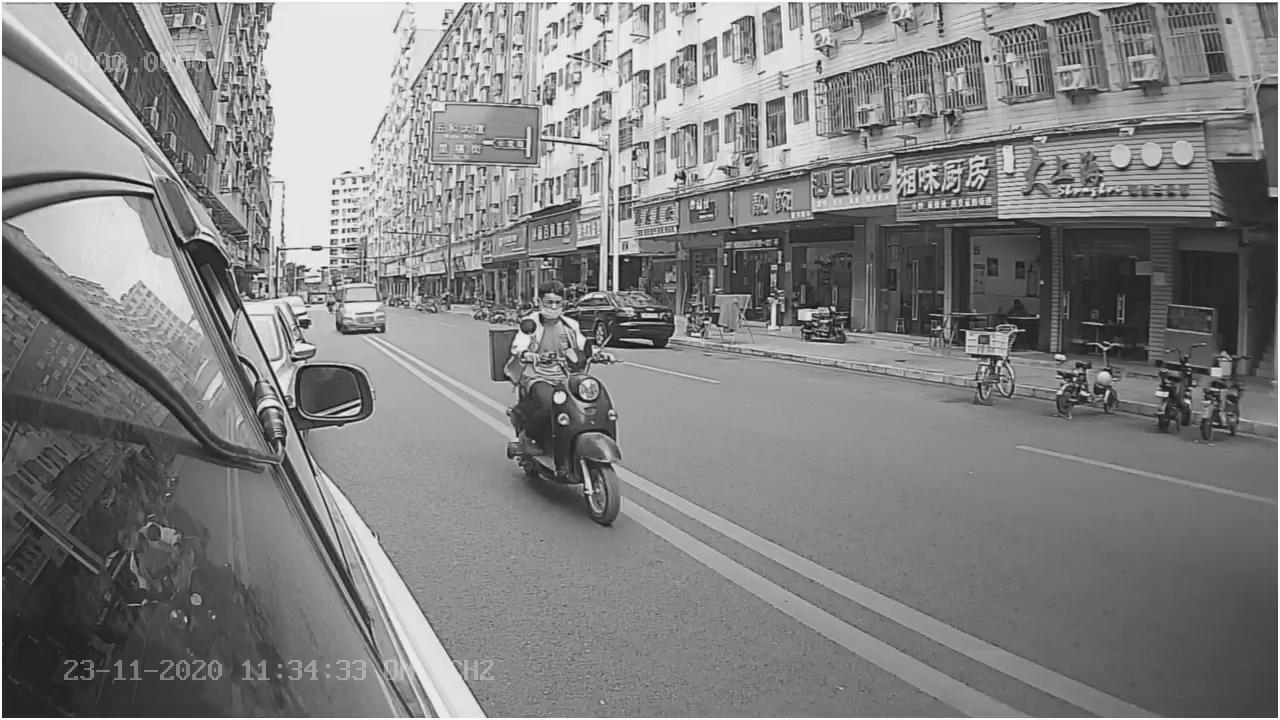person: (508, 278, 583, 365)
